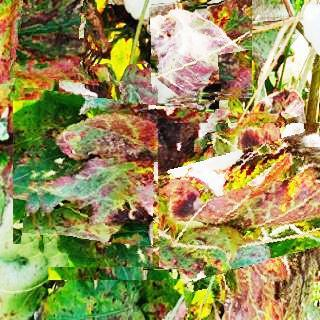blight: (10, 0, 96, 79)
leaf spot: (25, 77, 215, 267), (158, 123, 320, 300), (151, 0, 252, 101)
